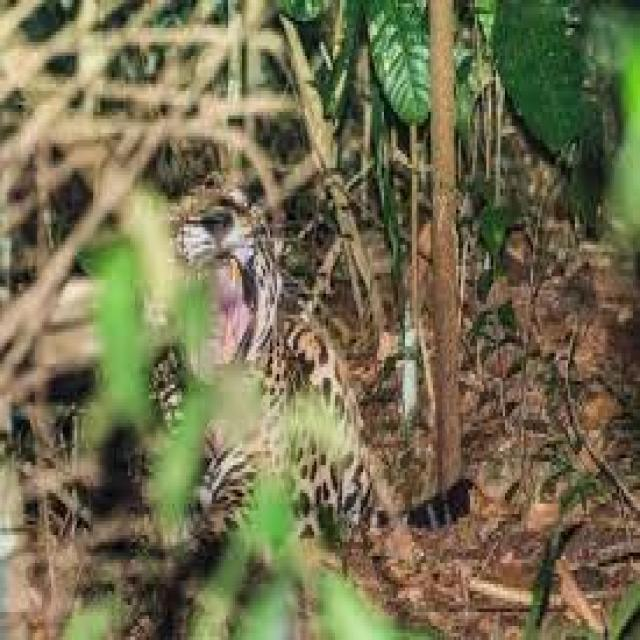Jaguar: (130, 175, 487, 598)
